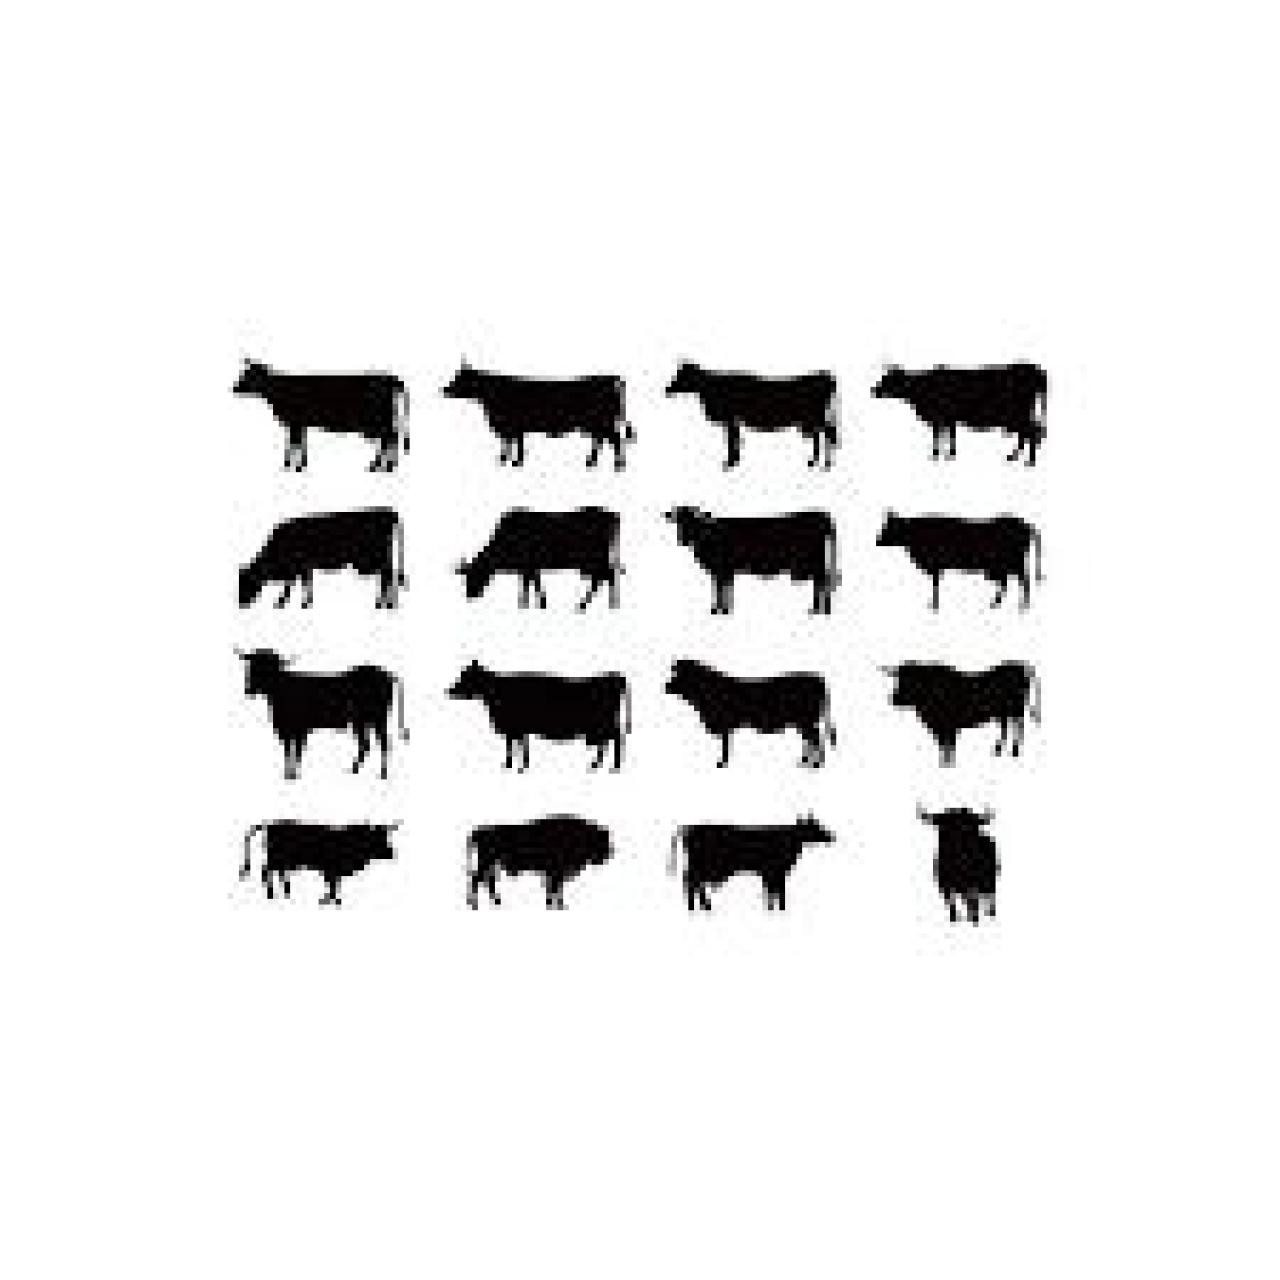cow: (233, 648, 415, 779), (441, 658, 634, 771), (239, 350, 415, 475), (438, 361, 644, 464), (660, 504, 842, 618), (662, 660, 839, 768), (663, 361, 845, 464), (669, 808, 839, 915), (865, 365, 1053, 461), (455, 506, 626, 608), (233, 509, 410, 606), (870, 509, 1041, 606), (881, 662, 1047, 760), (458, 813, 618, 911), (233, 819, 399, 905), (911, 802, 1007, 927)
